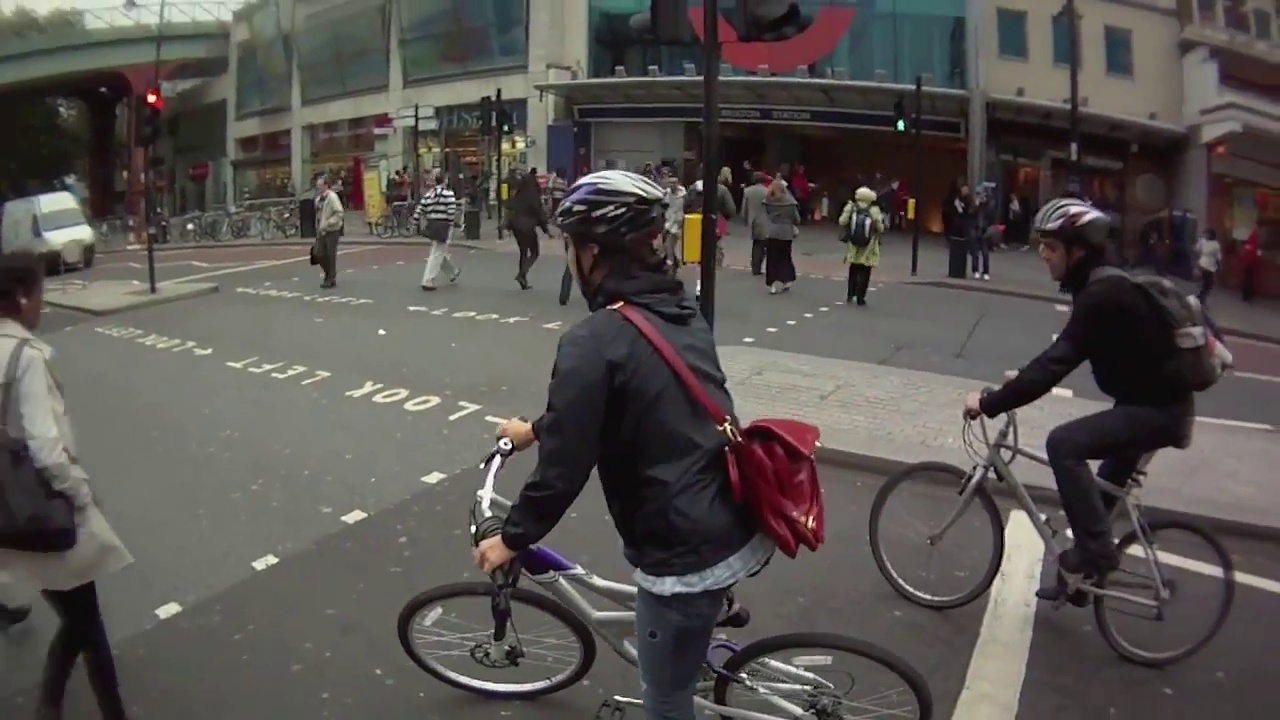cyclist_side: (396, 172, 929, 708), (869, 202, 1248, 668)
